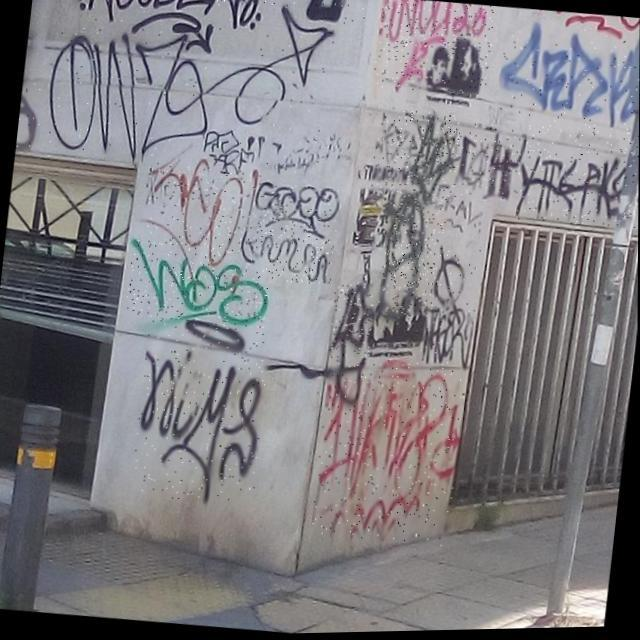-: (44, 0, 339, 181), (311, 354, 469, 551), (130, 316, 272, 508), (378, 110, 458, 320), (496, 22, 640, 137), (370, 114, 528, 206), (514, 121, 640, 235), (125, 237, 272, 331), (140, 161, 260, 269), (72, 0, 281, 62), (372, 0, 496, 99), (238, 181, 342, 288), (418, 247, 484, 371), (328, 281, 378, 358), (283, 0, 367, 31), (16, 80, 44, 154)
